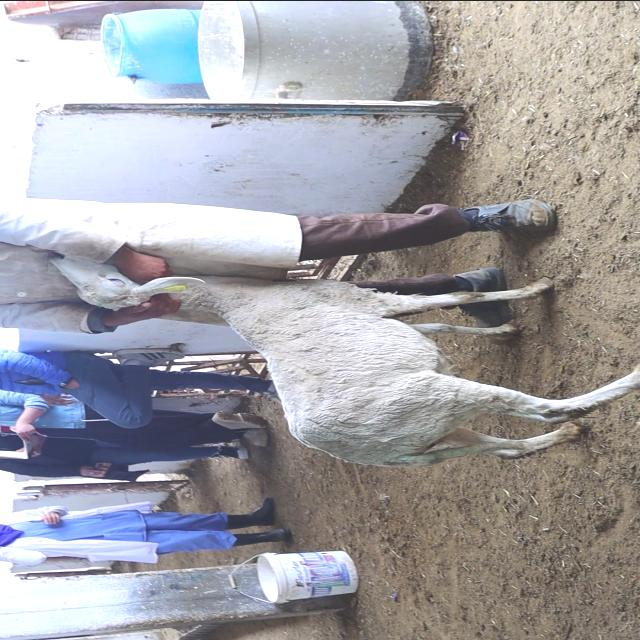Score_3: (51, 255, 639, 466)
